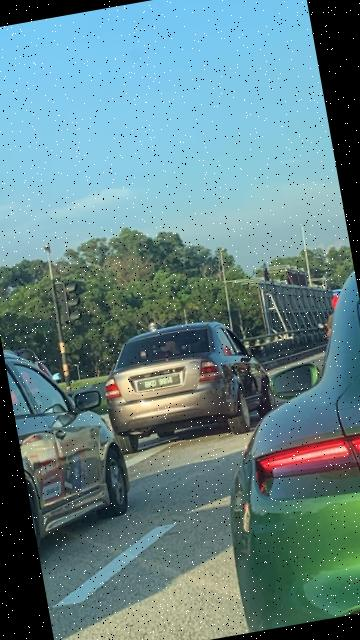License_Plate: (132, 368, 185, 394)
car: (96, 305, 284, 454)
